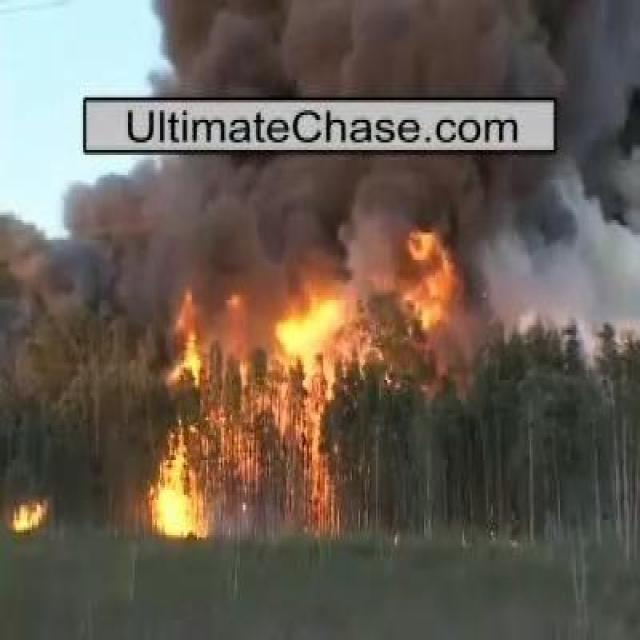Fire: (148, 455, 210, 540), (295, 392, 332, 530)
Smoke: (70, 158, 628, 330)
